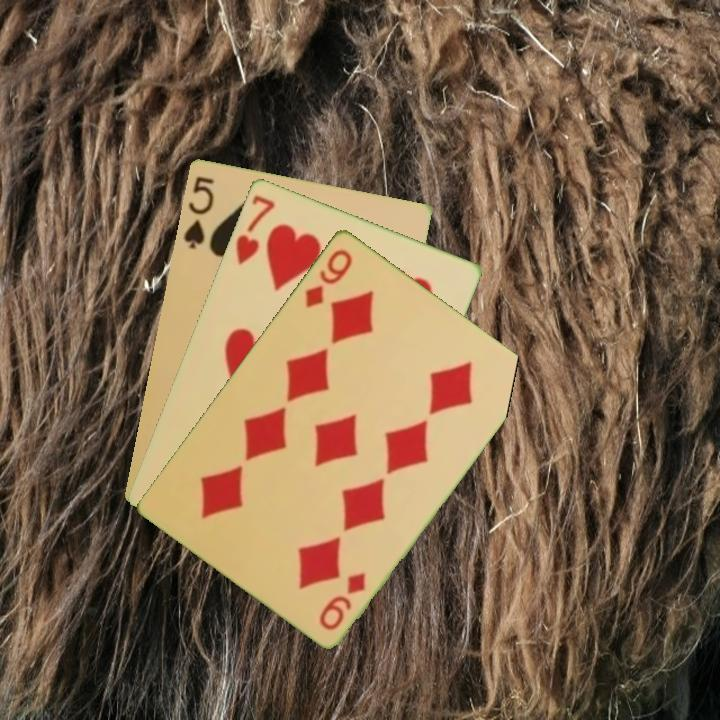5s: (179, 172, 217, 252)
7h: (232, 191, 278, 267)
9d: (301, 245, 356, 310), (315, 568, 369, 633)
